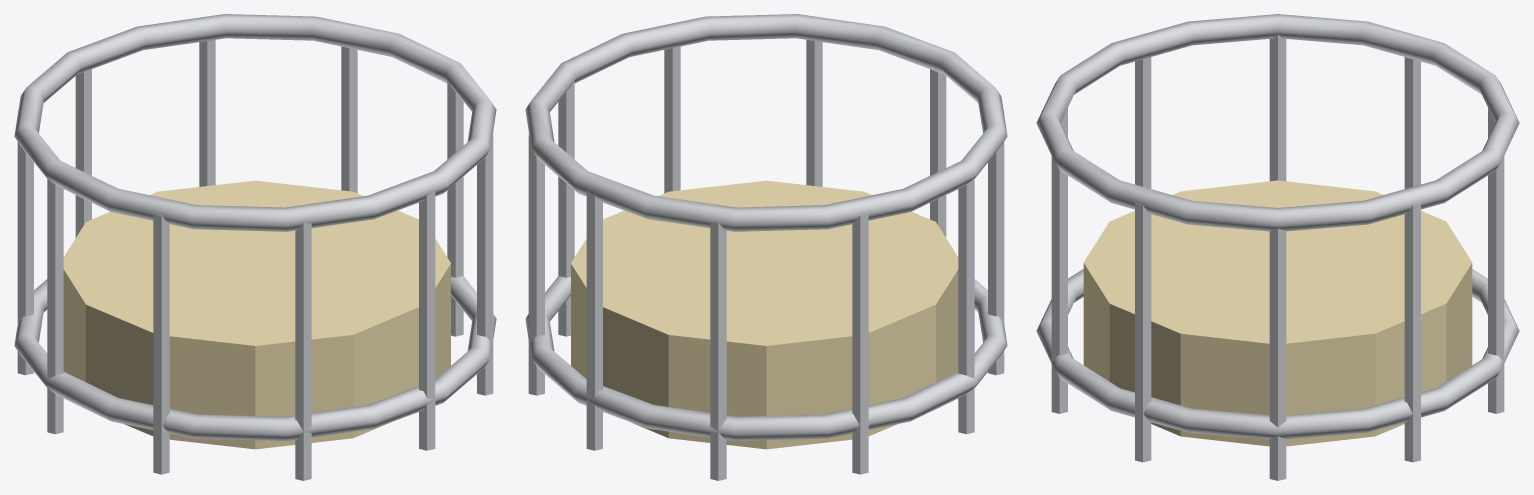
Rendered from hay-ring.glb.
3 renders of one model, left to right at view 1: azimuth 30°, elevation 25°; view 2: azimuth 150°, elevation 25°; view 3: azimuth 270°, elevation 25°, orthographic.
Visible parts, largest first — view 1: hay-ring; view 2: hay-ring; view 3: hay-ring.
Part boxes in pixels (x1=…): hay-ring: x1=14, y1=14, x2=496, y2=480; hay-ring: x1=525, y1=14, x2=1007, y2=480; hay-ring: x1=1036, y1=14, x2=1519, y2=480.
Size of the model in its own units: 1.79 by 1.09 by 1.79.
